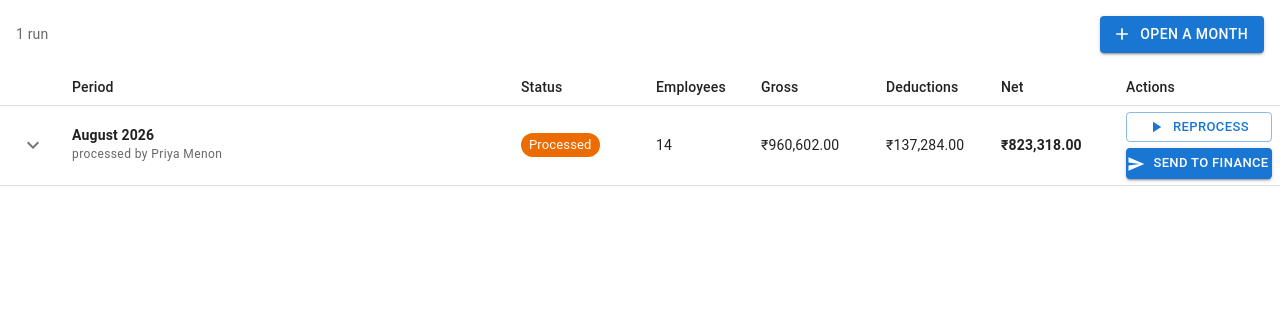
Scenario: PayrollRunsTab › opens it from the arrow exactly once
The image size is (1280, 309).
Click the button named "Show payslips".
click(33, 145)  # box [16,128,50,162]
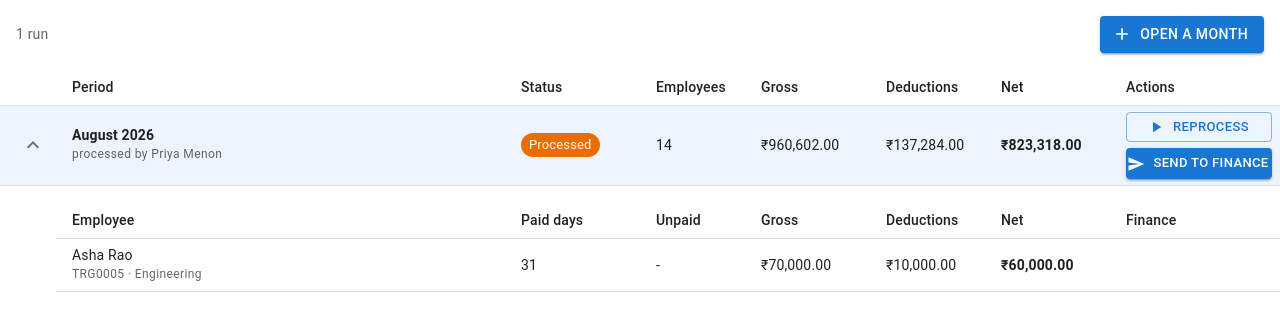
Check: the text "Asha Rao" is shown, box [72,247,133,263]
Check: the button named "Show payslips" is expanded, box [16,128,50,162]
